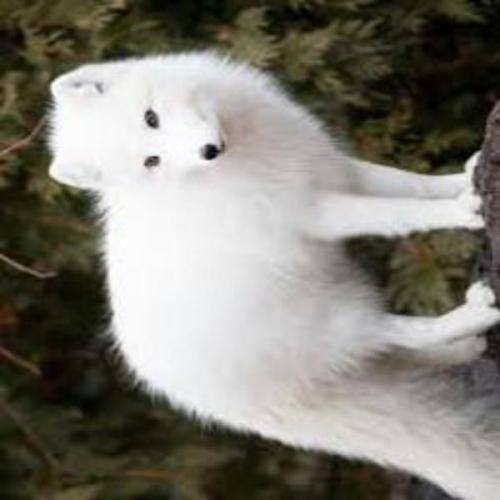arctic_fox-endangered: (49, 53, 499, 500)
